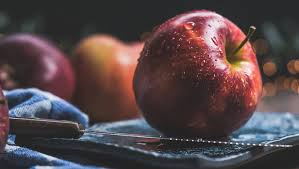apple: (129, 6, 265, 141)
